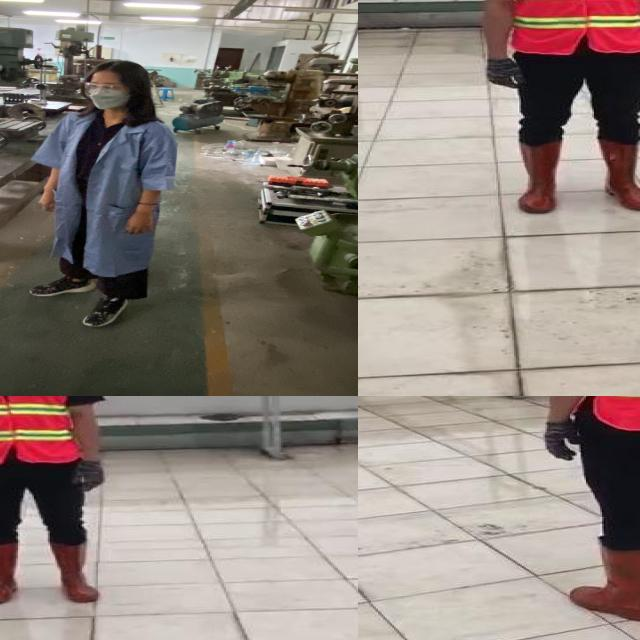boots: (573, 541, 640, 624), (592, 137, 640, 213), (514, 139, 560, 215), (48, 541, 102, 604), (0, 544, 23, 605)
face_mask: (81, 79, 133, 109)
glasses: (81, 80, 133, 96)
hand_glove: (540, 422, 586, 464), (478, 58, 523, 91), (73, 461, 105, 493)
hand_noglove: (123, 213, 154, 236), (36, 193, 60, 213)
head_nohelmet: (84, 58, 148, 79)
person: (25, 58, 181, 330), (462, 0, 640, 221), (524, 396, 640, 629), (0, 396, 114, 610)
shoes: (24, 272, 100, 298), (80, 294, 134, 326)
vest: (508, 0, 640, 55), (0, 396, 78, 465)
